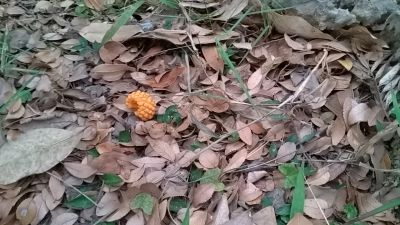eggs: (125, 90, 157, 120)
